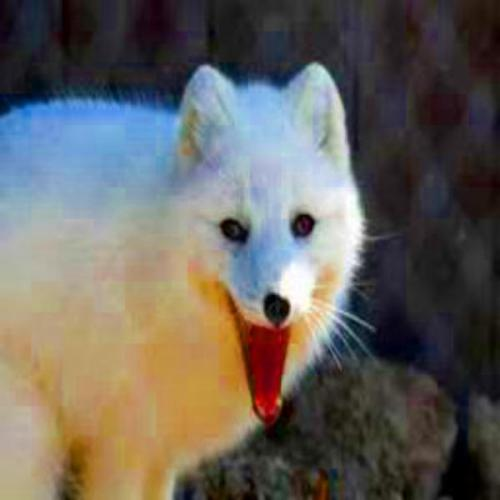arctic_fox-endangered: (3, 76, 356, 500)
